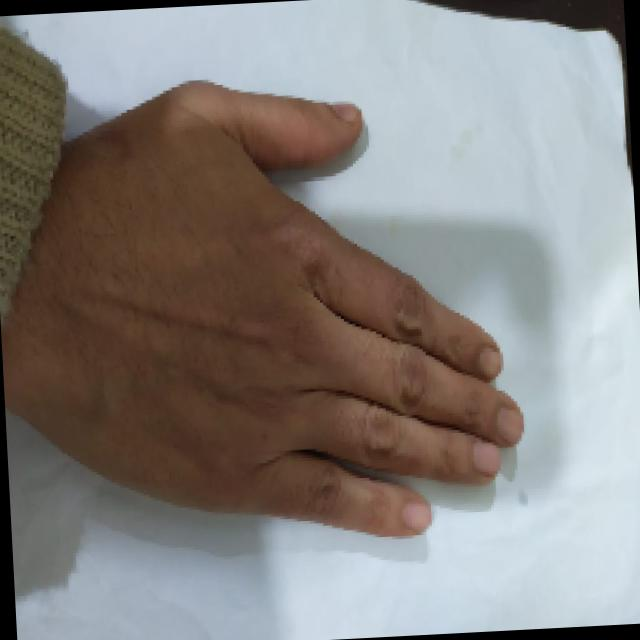Nail: (472, 442, 499, 473), (496, 408, 522, 440), (402, 502, 429, 530), (478, 347, 501, 376), (331, 102, 358, 122)
